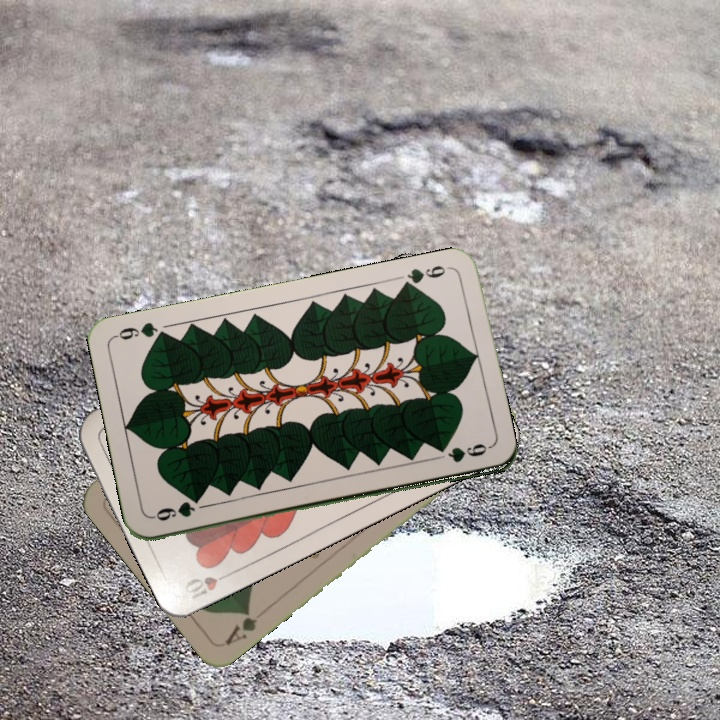G9: (398, 261, 455, 291), (148, 498, 198, 524)
GA: (220, 605, 261, 649)
H10: (180, 567, 237, 605)
